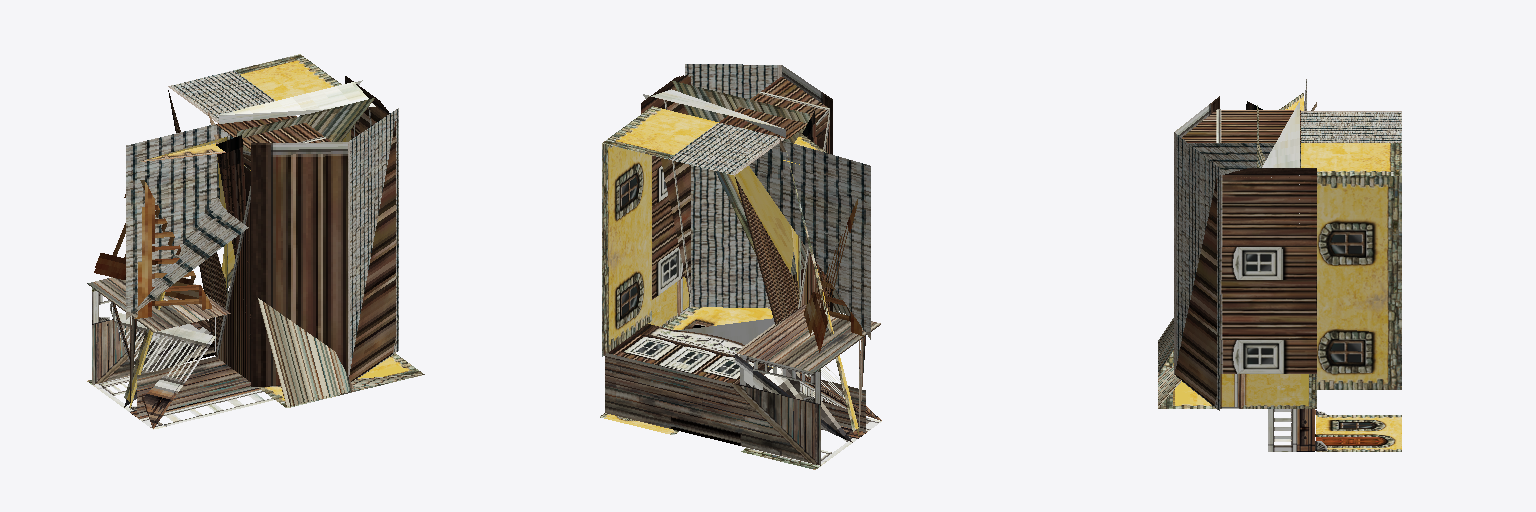
3 renders of one model, left to right at view 1: azimuth 30°, elevation 25°; view 2: azimuth 150°, elevation 25°; view 3: azimuth 270°, elevation 25°, orthographic.
Size of the model in its own units: 137 by 161 by 124.
1 materials, 1 textured.